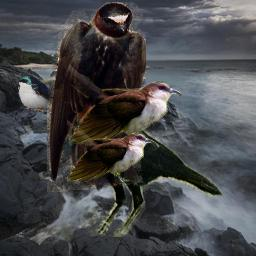Crow: (38, 62, 223, 237)
Cuckoo: (69, 38, 182, 149), (67, 99, 155, 185)
Swallow: (47, 2, 146, 192), (15, 74, 70, 112)
